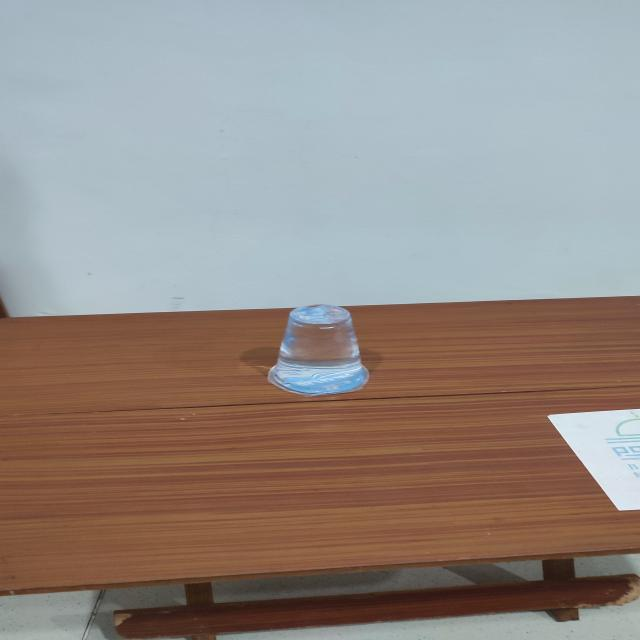air gelas: (264, 296, 380, 400)
